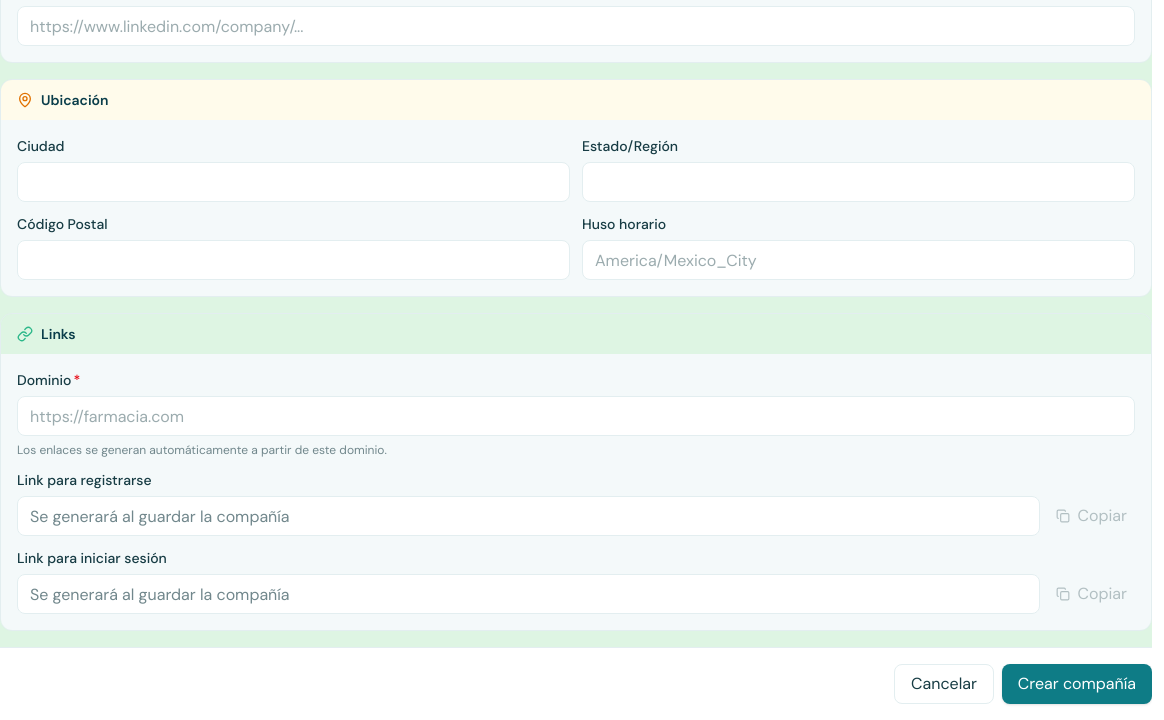
Test: CompanyForm › genera un PIN y previsualiza los links con el token de la compañía
(page scrolled)
Type "farmacia.test" into the field labelled "Dominio". click: [576, 416]
box: [17,396,1135,436]
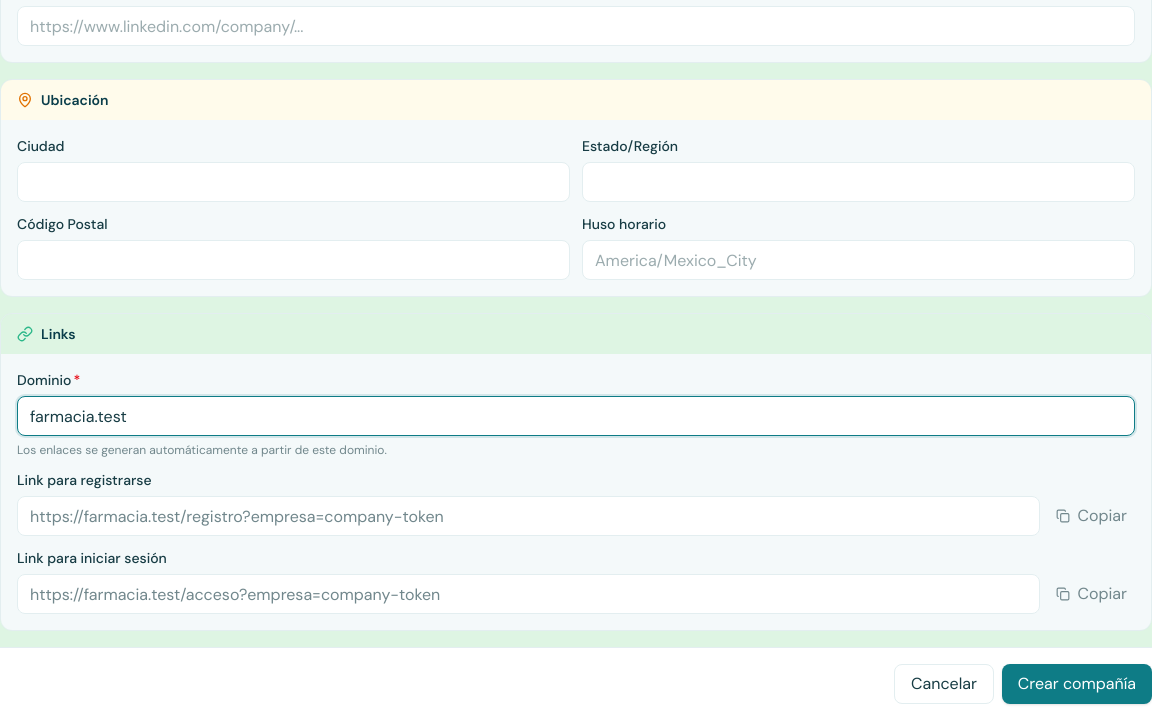
Check: the field named "Link para registrarse" holds "https://farmacia.test/registro?empresa=company-token", box [17,496,1040,536]
Check: the field named "Link para iniciar sesión" holds "https://farmacia.test/acceso?empresa=company-token", box [17,574,1040,614]
